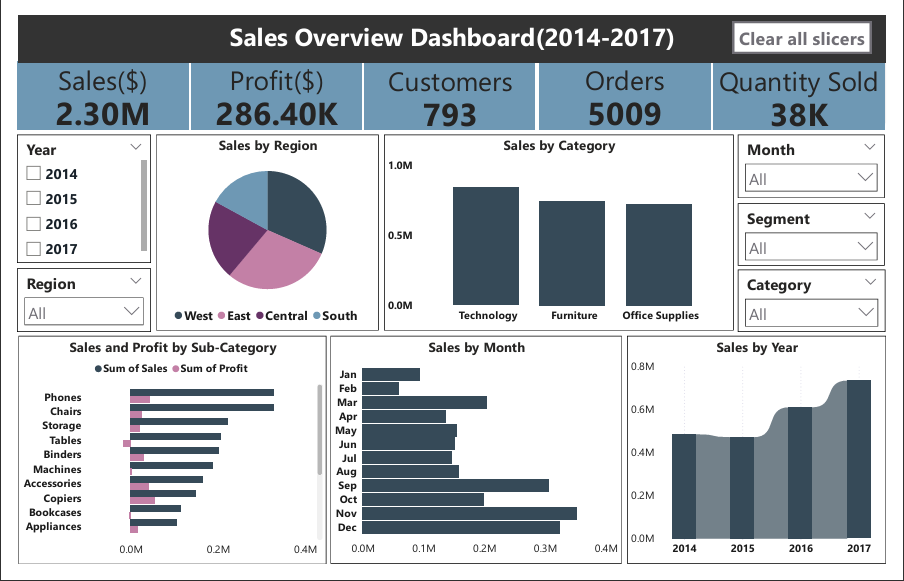

The dashboard page shown, as its layout file describes it:
{"tool":"powerbi","page":{"name":"mainDashboard","canvas":[1311,827],"ordinal":0},"visuals":[{"type":"clusteredBarChart","title":"Sales by Month","fields":{"Y":["Sum(ItemOrders.Sales)"],"Category":["ItemOrders.ShortMonth"]},"box":[472.7,482.9,440.1,344.3],"z":0},{"type":"card","title":"Sales($)","fields":{"Values":["Sum(ItemOrders.Sales)"]},"box":[0,69.3,258.8,103.9],"z":1000},{"type":"card","title":"Profit($)","fields":{"Values":["Sum(ItemOrders.Profit)"]},"box":[263.3,69.3,258,103.9],"z":2000},{"type":"card","title":"Customers","fields":{"Values":["Count(ItemOrders.Customer ID)"]},"box":[524.7,71.3,258.8,101.9],"z":3000},{"type":"card","title":"Quantity Sold","fields":{"Values":["Sum(ItemOrders.Quantity)"]},"box":[1051.3,71.3,258.8,101.9],"z":4000},{"type":"slicer","fields":{"Values":["ItemOrders.Region"]},"box":[0,381,201.7,95.7],"z":5000},{"type":"slicer","fields":{"Values":["ItemOrders.Segment"]},"box":[1088,283.2,222.1,93.7],"z":6000},{"type":"slicer","fields":{"Values":["ItemOrders.Category"]},"box":[1088,383,223,93.7],"z":7000},{"type":"slicer","fields":{"Values":["ItemOrders.Month Name"]},"box":[1088,179.3,222.1,95.8],"z":8000},{"type":"slicer","fields":{"Values":["ItemOrders.Year"]},"box":[0,179.3,201.7,193.5],"z":9000},{"type":"card","title":"Orders","fields":{"Values":["Count(ItemOrders.Order ID)"]},"box":[788,69.3,258.8,103.9],"z":10000},{"type":"textbox","box":[2,0,1310.1,71.3],"z":11000},{"type":"columnChart","title":"Sales by Category","fields":{"Category":["ItemOrders.Category"],"Y":["Sum(ItemOrders.Sales)"]},"box":[554.2,179.3,527.7,295.4],"z":12000},{"type":"pieChart","title":"Sales by Region","fields":{"Category":["ItemOrders.Region"],"Y":["Sum(ItemOrders.Sales)"]},"box":[209.9,179.3,336.2,295.4],"z":13000},{"type":"clusteredBarChart","title":"Sales and Profit by Sub-Category","fields":{"Category":["ItemOrders.Sub-Category"],"Y":["Sum(ItemOrders.Sales)","Sum(ItemOrders.Profit)"]},"box":[2,482.9,464.5,345],"z":14000},{"type":"ribbonChart","title":"Sales by Year","fields":{"Category":["ItemOrders.Year"],"Y":["Sum(ItemOrders.Sales)"]},"box":[920.9,482.9,391.2,344.3],"z":15000},{"type":"actionButton","box":[1079.9,8.1,209.9,48.9],"z":16000}]}

Visuals, with their boxes in screenshot pixels (x1, y1, x2, y2), scaled from the page's 1311x827 canvas onto the 904x581 screenshot:
"Sales by Month" clusteredBarChart: x1=326 y1=339 x2=629 y2=580
"Sales($)" card: x1=0 y1=49 x2=178 y2=122
"Profit($)" card: x1=182 y1=49 x2=359 y2=122
"Customers" card: x1=362 y1=50 x2=540 y2=122
"Quantity Sold" card: x1=725 y1=50 x2=903 y2=122
slicer - ItemOrders.Region: x1=0 y1=268 x2=139 y2=335
slicer - ItemOrders.Segment: x1=750 y1=199 x2=903 y2=265
slicer - ItemOrders.Category: x1=750 y1=269 x2=903 y2=335
slicer - ItemOrders.Month Name: x1=750 y1=126 x2=903 y2=193
slicer - ItemOrders.Year: x1=0 y1=126 x2=139 y2=262
"Orders" card: x1=543 y1=49 x2=722 y2=122
textbox: x1=1 y1=0 x2=903 y2=50
"Sales by Category" columnChart: x1=382 y1=126 x2=746 y2=333
"Sales by Region" pieChart: x1=145 y1=126 x2=377 y2=333
"Sales and Profit by Sub-Category" clusteredBarChart: x1=1 y1=339 x2=322 y2=580
"Sales by Year" ribbonChart: x1=635 y1=339 x2=903 y2=580
actionButton: x1=745 y1=6 x2=889 y2=40
